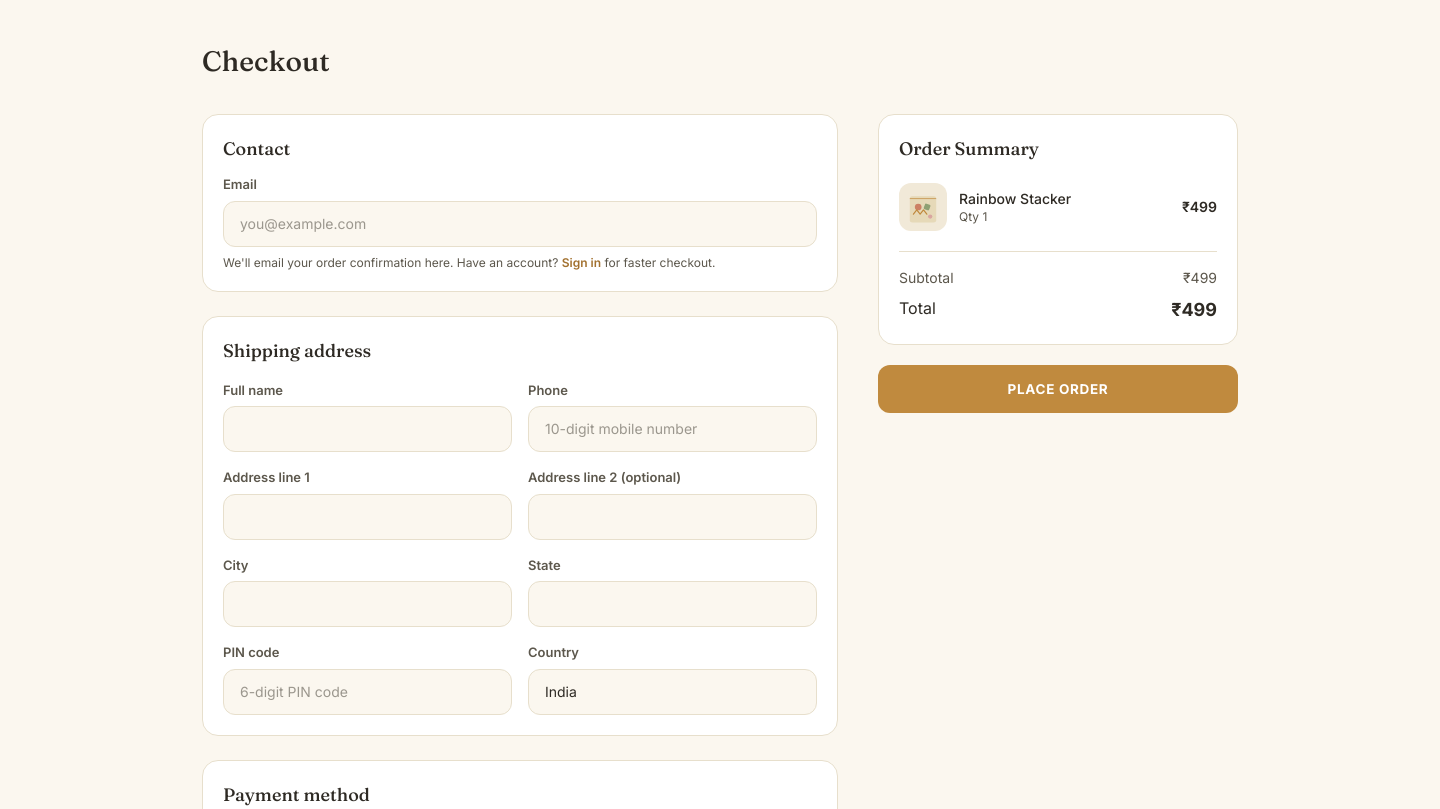
Test: CheckoutPage › shows validation errors and does not submit when required fields are blank
Expected: the field labelled "Full name" is shown, [223,406,512,452]
Click the button "Place order" at (1058, 389), box [878,365,1238,413]
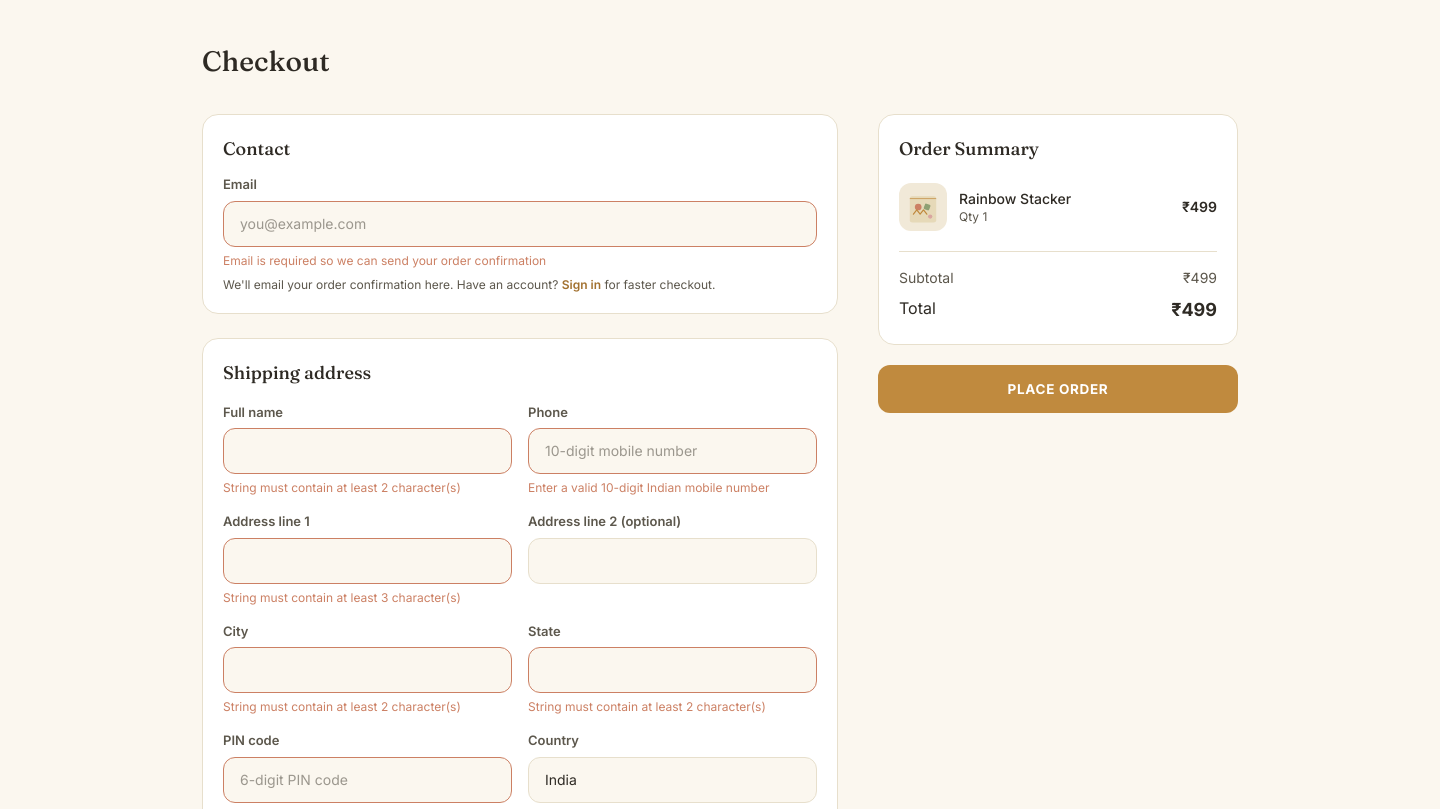
Expected: the text "Email is required so we can send your order confirmation" is shown, [223,252,546,268]
Expected: the text "String must contain at least 2 character(s)" below "Full name" is shown, [223,480,461,495]
